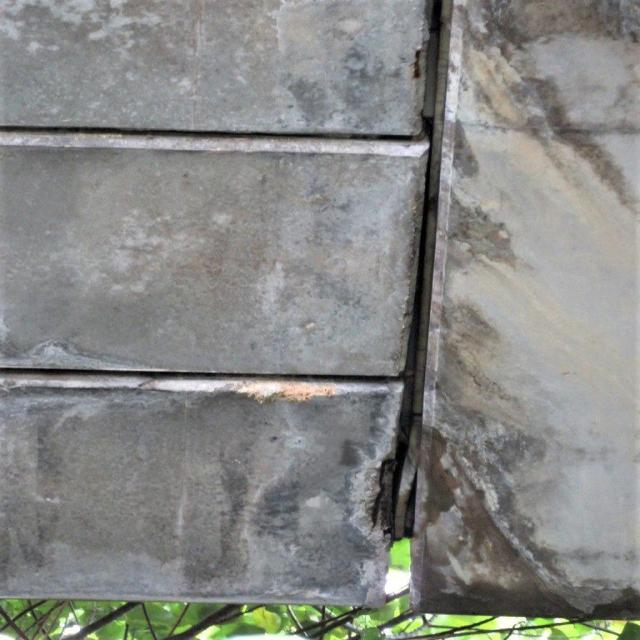Rebar: (346, 453, 396, 549)
